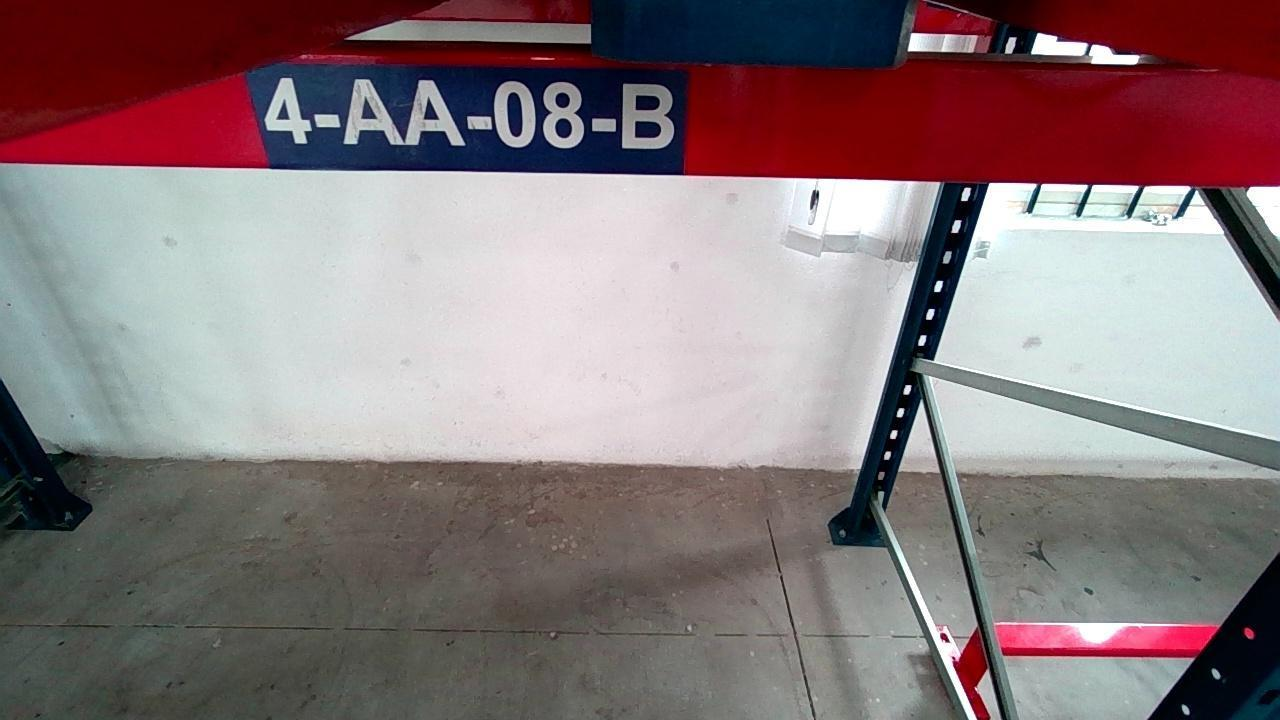h_rack: (3, 50, 1280, 183)
